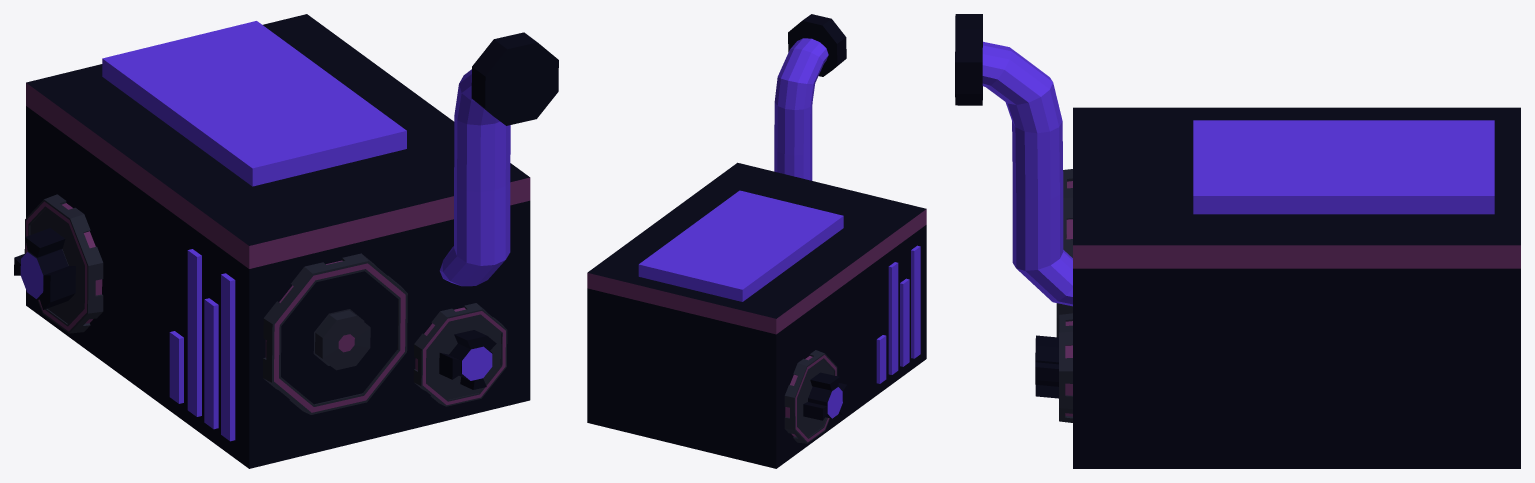
File: Building_JortsPoweredBox.fbx
3 renders of one model, left to right at view 1: azimuth 30°, elevation 25°; view 2: azimuth 150°, elevation 25°; view 3: azimuth 270°, elevation 25°, orthographic. The views are drawn at different scales.
Visible parts, largest first — view 1: Cube.838; view 2: Cube.838; view 3: Cube.838.
Part boxes in pixels (bbox=[...]): Cube.838: bbox=[14, 14, 558, 468]; Cube.838: bbox=[587, 14, 926, 468]; Cube.838: bbox=[955, 14, 1520, 468].
Bounding box in the file's own units: 256 × 314 × 388.
